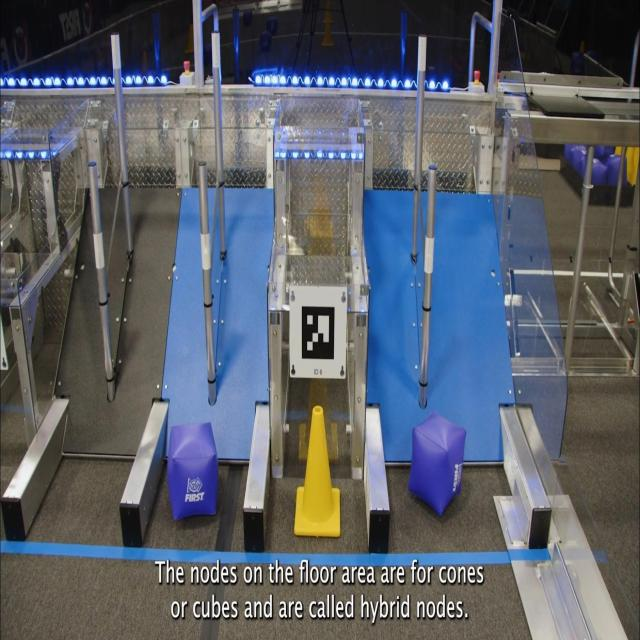frc_cone: (293, 406, 341, 536), (622, 144, 635, 186), (630, 142, 640, 182)
frc_cube: (408, 414, 467, 516), (167, 422, 219, 520), (604, 154, 626, 189), (584, 156, 606, 189), (590, 139, 615, 157), (572, 144, 588, 172), (564, 137, 580, 160)
